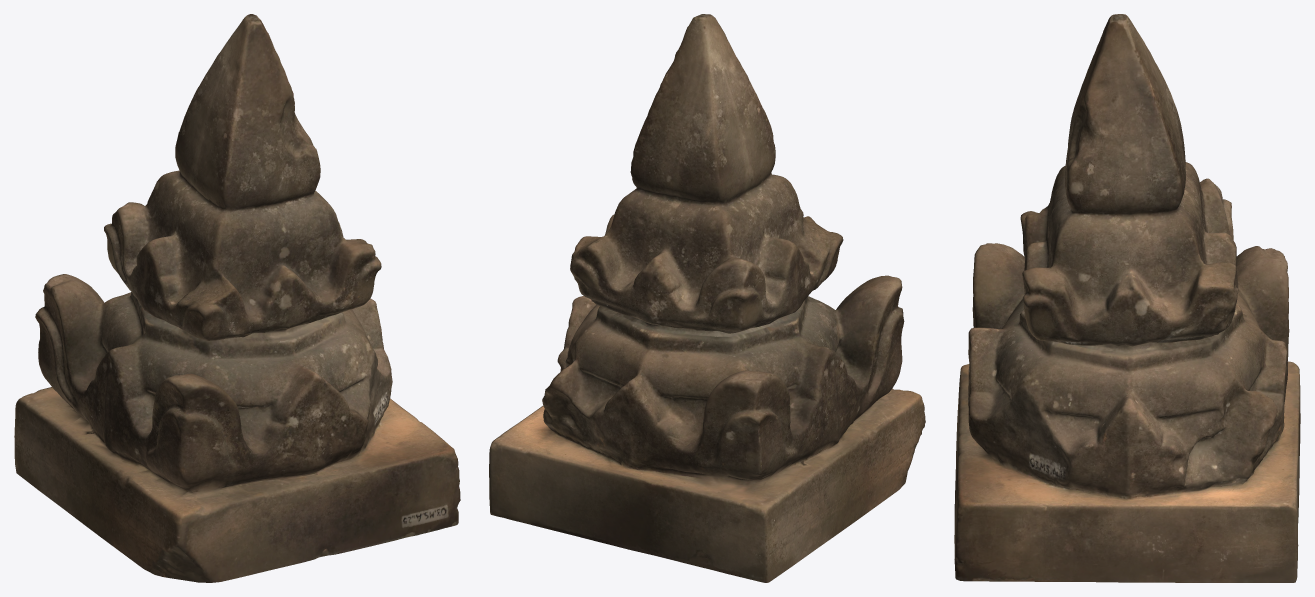
The model's file is MysonMyseum_dinhthapgocbangsathachA1_final.glb.
The picture shows the model from 3 angles, left to right: view 1: azimuth 30°, elevation 25°; view 2: azimuth 150°, elevation 25°; view 3: azimuth 270°, elevation 25°; orthographic projection. The views are drawn at different scales.
Bounding box in the file's own units: 0.5801 × 0.9225 × 0.5794.
1 material, 1 textured.
